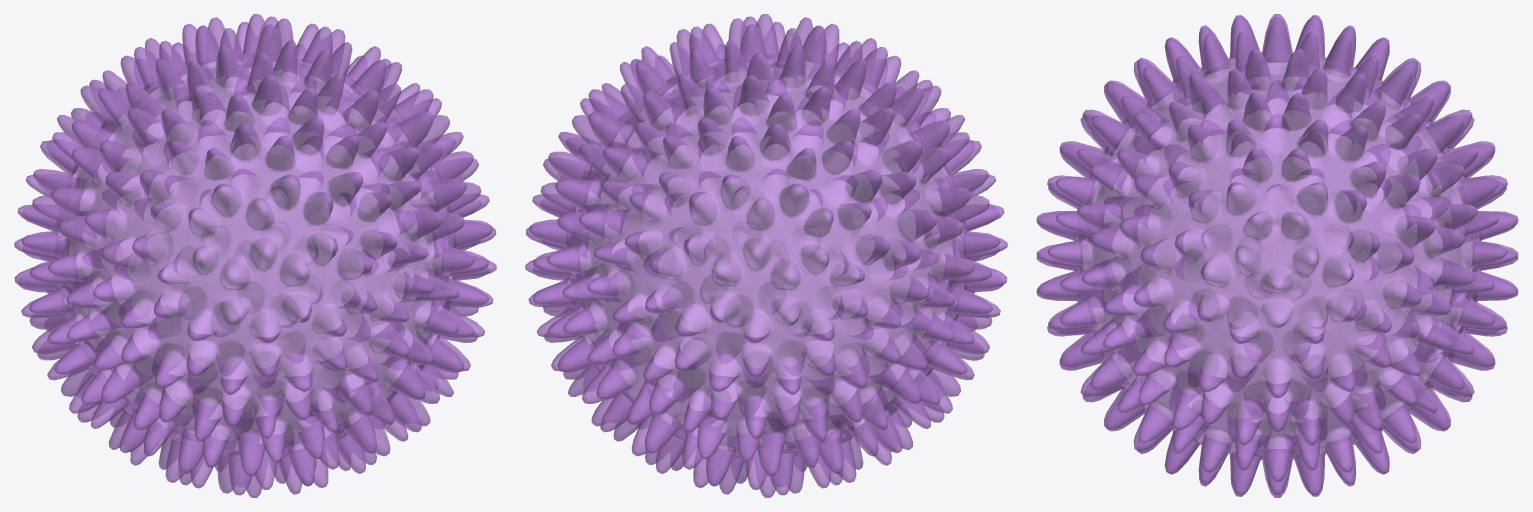
Rendered from Ballspike.fbx.
The picture shows the model from 3 angles, left to right: view 1: azimuth 30°, elevation 25°; view 2: azimuth 150°, elevation 25°; view 3: azimuth 270°, elevation 25°; orthographic projection.
Parts seen in each view (by area): view 1: Ballspike; view 2: Ballspike; view 3: Ballspike.
Boxes of the visible parts, <box> form: Ballspike: <box>14,14,496,497</box>; Ballspike: <box>525,14,1007,497</box>; Ballspike: <box>1036,14,1518,497</box>.
Bounding box in the file's own units: 10.54 × 10.56 × 10.54.
